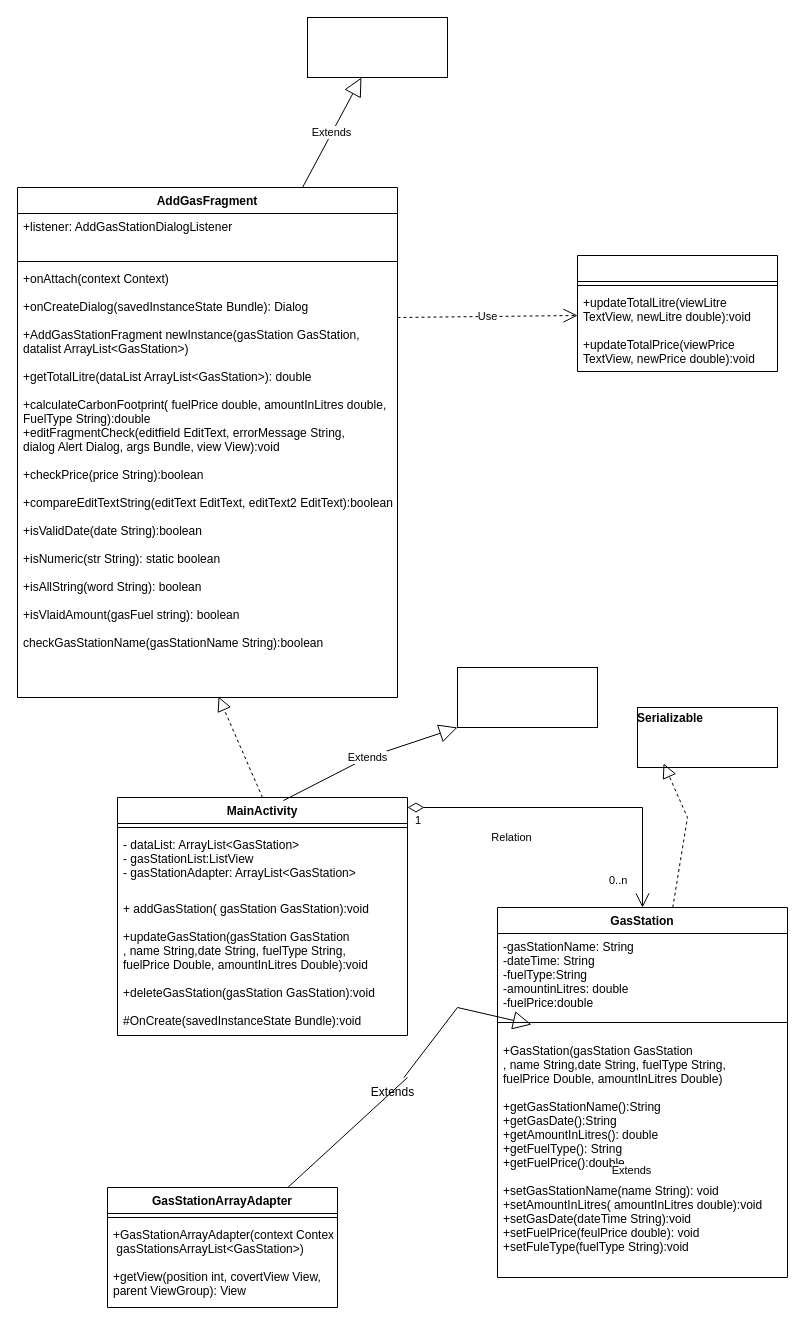
The diagram is 805 pixels wide and 1328 high, and some of its shapes have lost their labels. The box of each missing label's shape, as (x1, y1, x2, y2) in pixels:
AppCompatActivity: (456, 666, 598, 728)
DialogFragment: (306, 16, 448, 78)
TotalUpdate: (576, 254, 778, 372)
